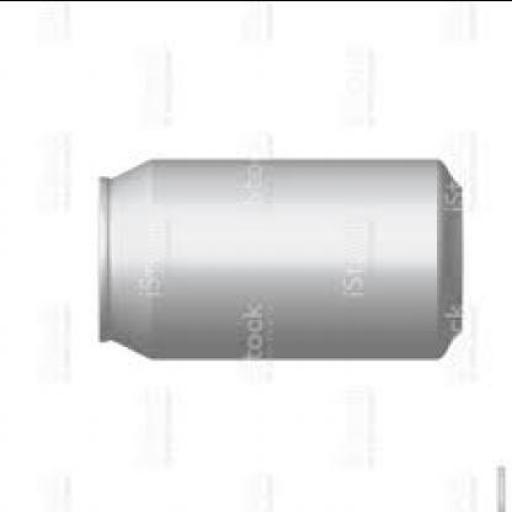metal: (95, 162, 460, 361)
